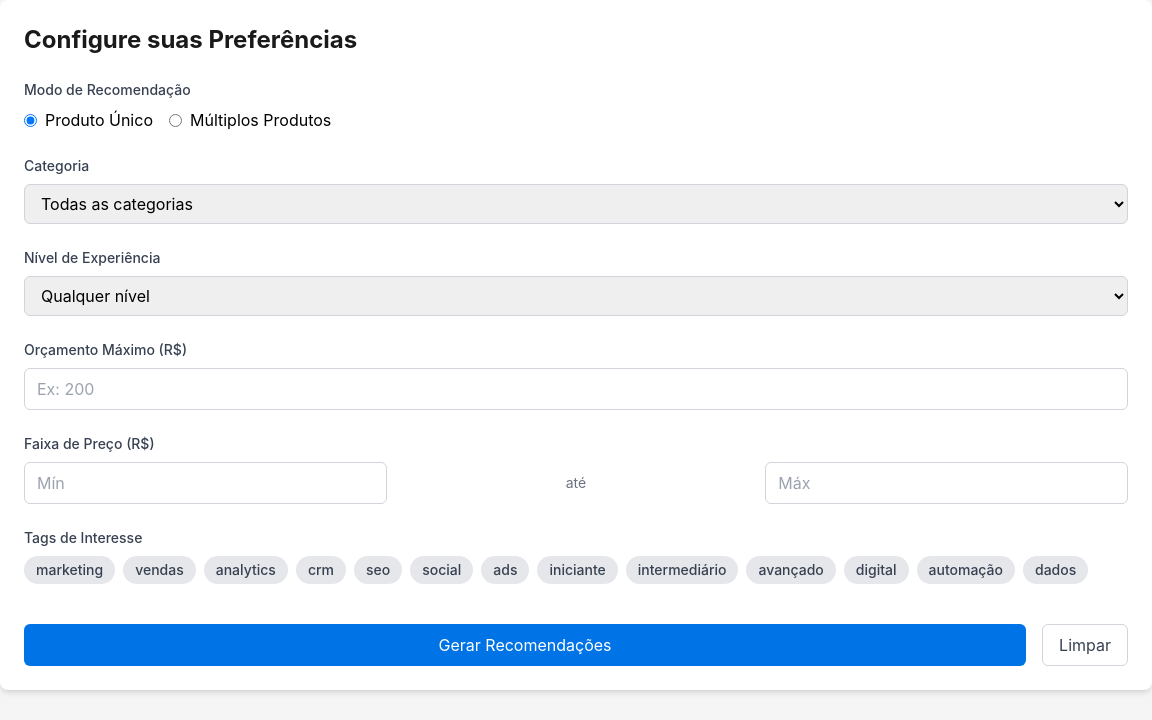
Test case: Form Component › deve limpar formulário ao clicar em Limpar
The image size is (1152, 720).
# Preenche o formulário
Select "Marketing" in the dropdown showing "Todas as categorias" at {"x": 576, "y": 204}, box [24, 184, 1128, 224]
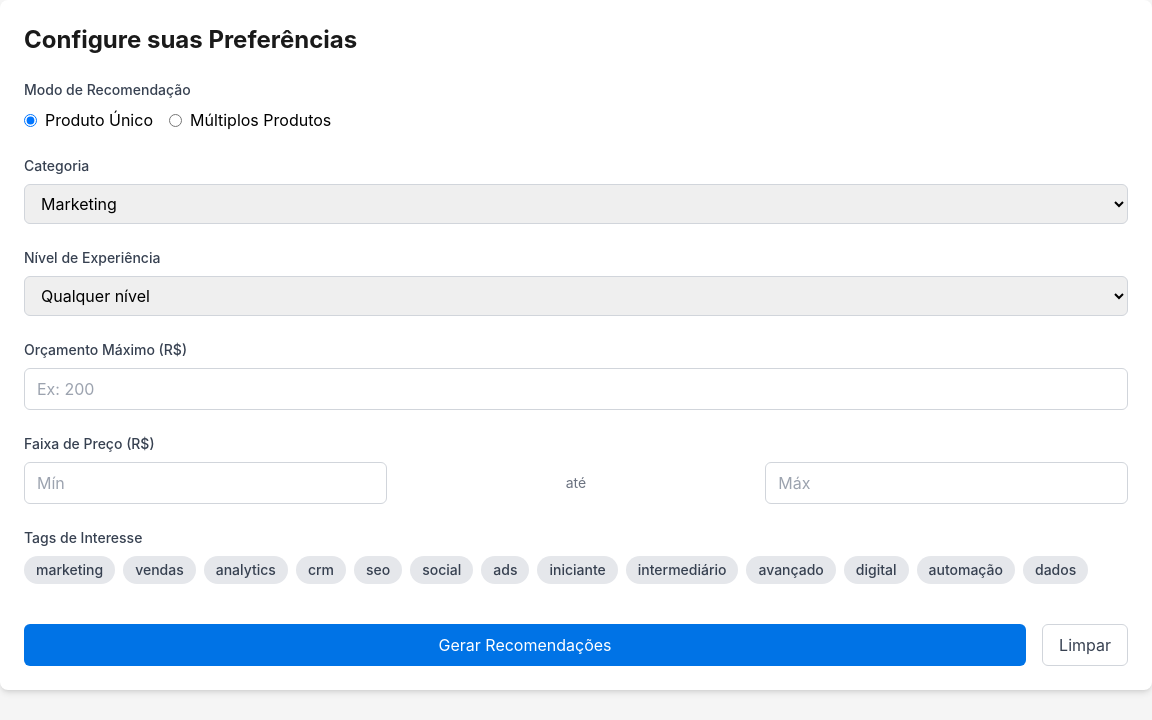
Type "200" into the number field with placeholder "Ex: 200" at {"x": 576, "y": 389}, box [24, 368, 1128, 410]
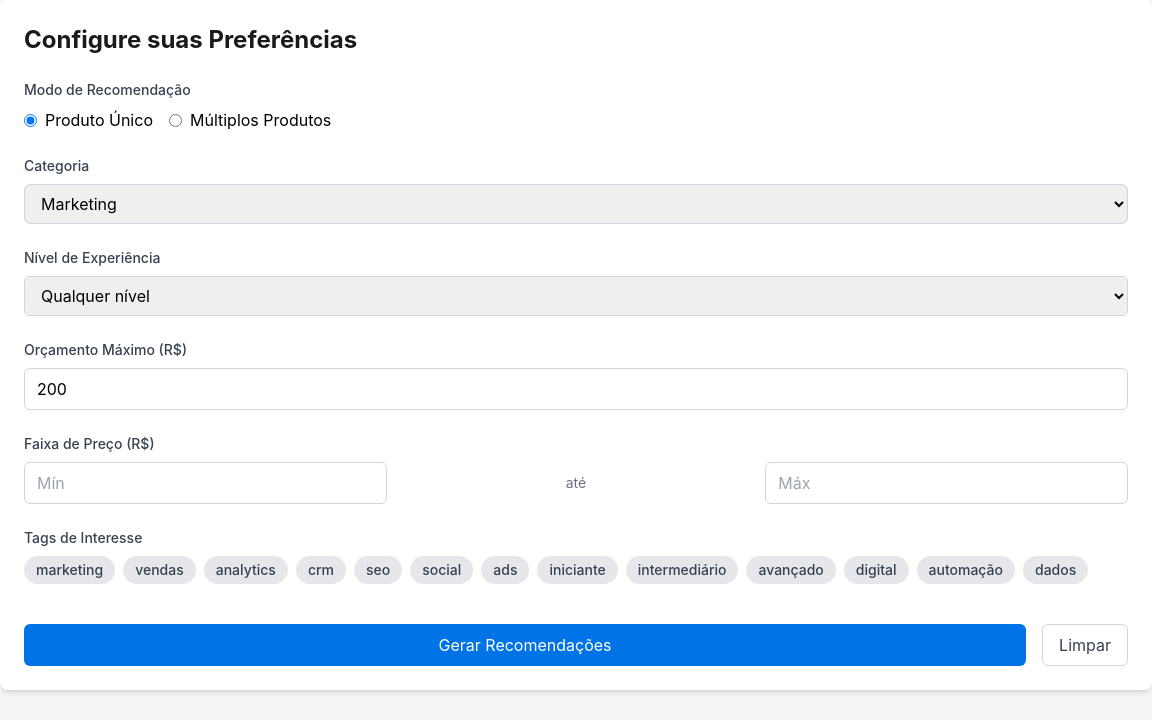
Click the button "marketing" at {"x": 70, "y": 570}, box [24, 556, 115, 584]
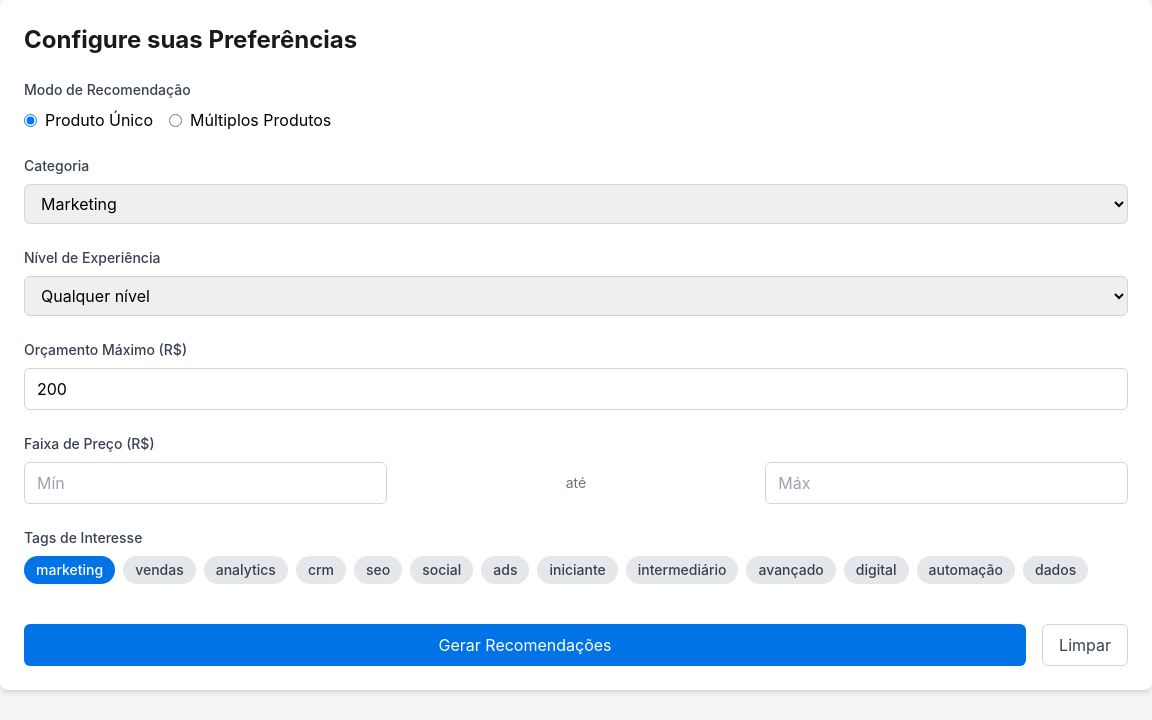
# Clica em Limpar
Click the button "Limpar" at {"x": 1085, "y": 645}, box [1042, 624, 1128, 666]
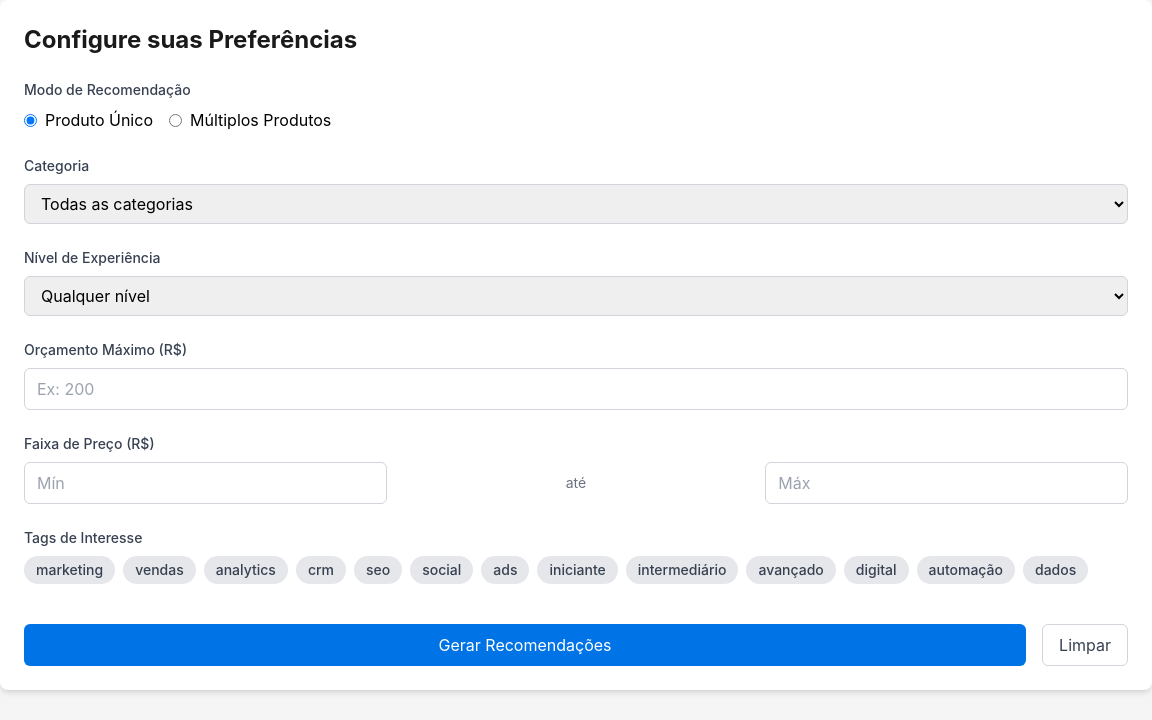
Check: the number field with placeholder "Ex: 200" is empty, box [24, 368, 1128, 410]
